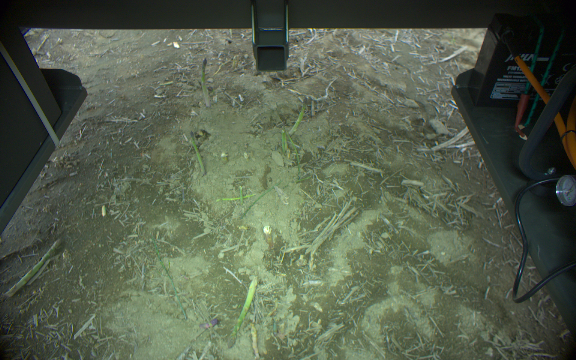aspa: (229, 274, 259, 346), (197, 56, 214, 109), (288, 95, 309, 136), (189, 129, 206, 178), (280, 123, 288, 153)
